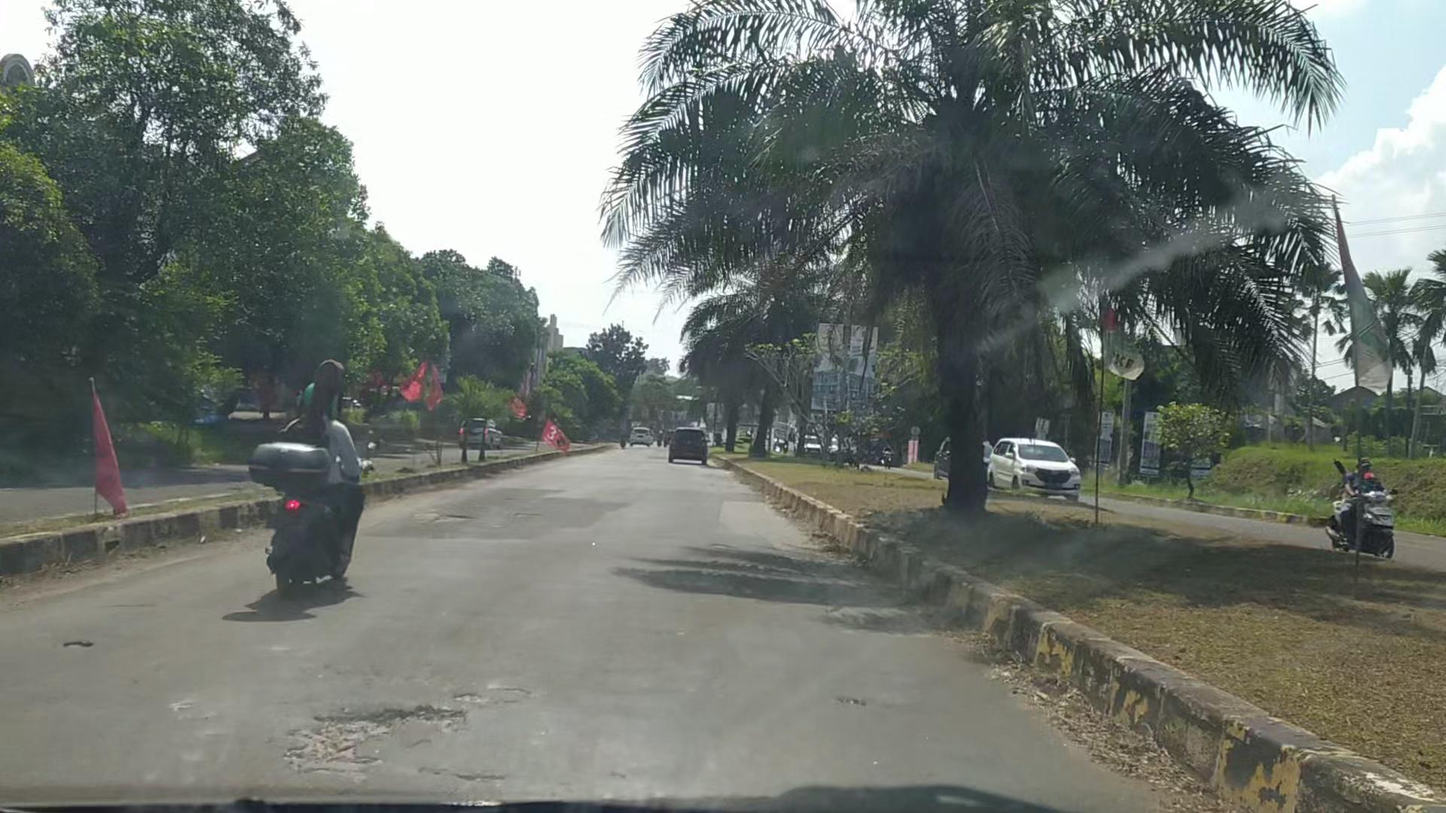pothole: (284, 704, 458, 774)
